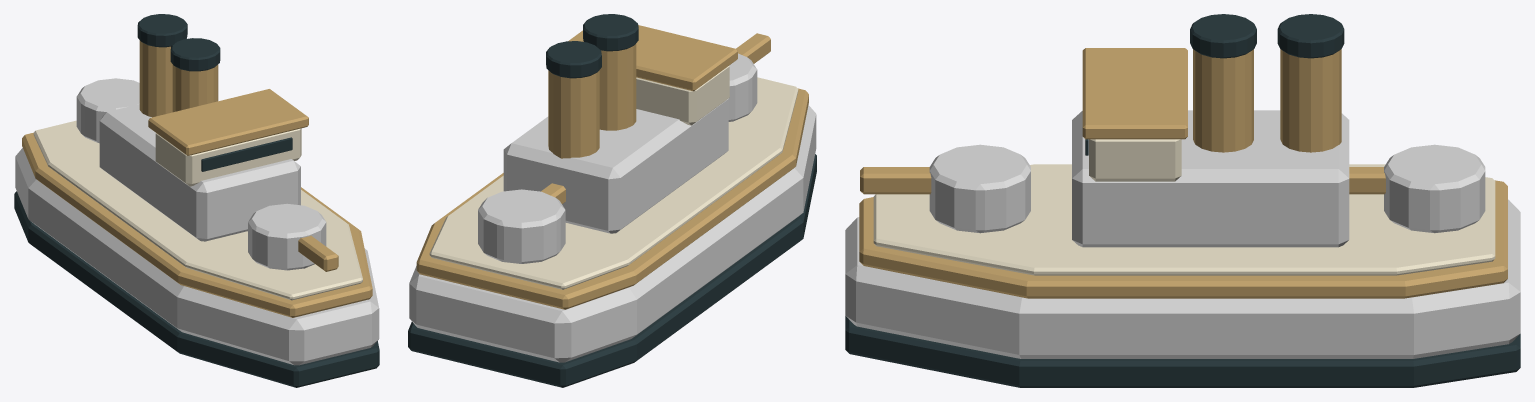
File: fleet.glb
The picture shows the model from 3 angles, left to right: view 1: azimuth 30°, elevation 25°; view 2: azimuth 150°, elevation 25°; view 3: azimuth 270°, elevation 25°; orthographic projection. The views are drawn at different scales.
Parts seen in each view (by area): view 1: Fleet; view 2: Fleet; view 3: Fleet.
Boxes of the visible parts, x1,y1,x2,y2 form: Fleet: (14,14,379,387); Fleet: (408,14,816,387); Fleet: (845,14,1520,387).
Size of the model in its own units: 0.4316 by 0.4916 by 1.
